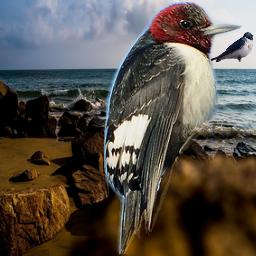Swallow: (210, 32, 253, 62)
Woodpecker: (104, 2, 243, 254)
